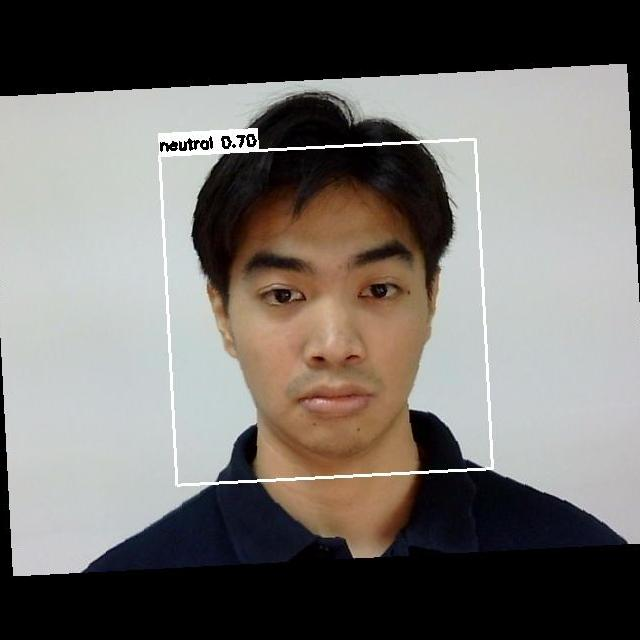Fear: (209, 235, 442, 434)
